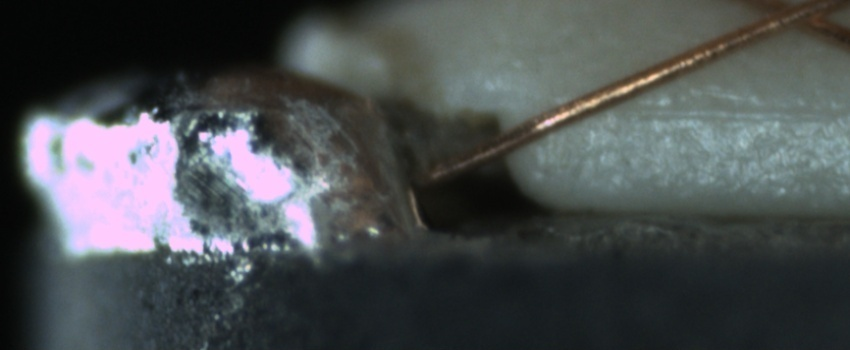CL: (739, 0, 845, 41)
DL: (609, 77, 842, 145)
